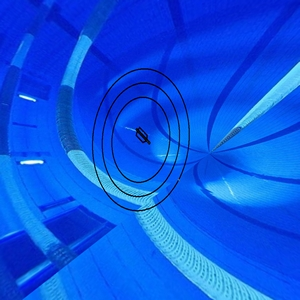circle: (90, 65, 196, 217)
submarine: (131, 124, 154, 151)
